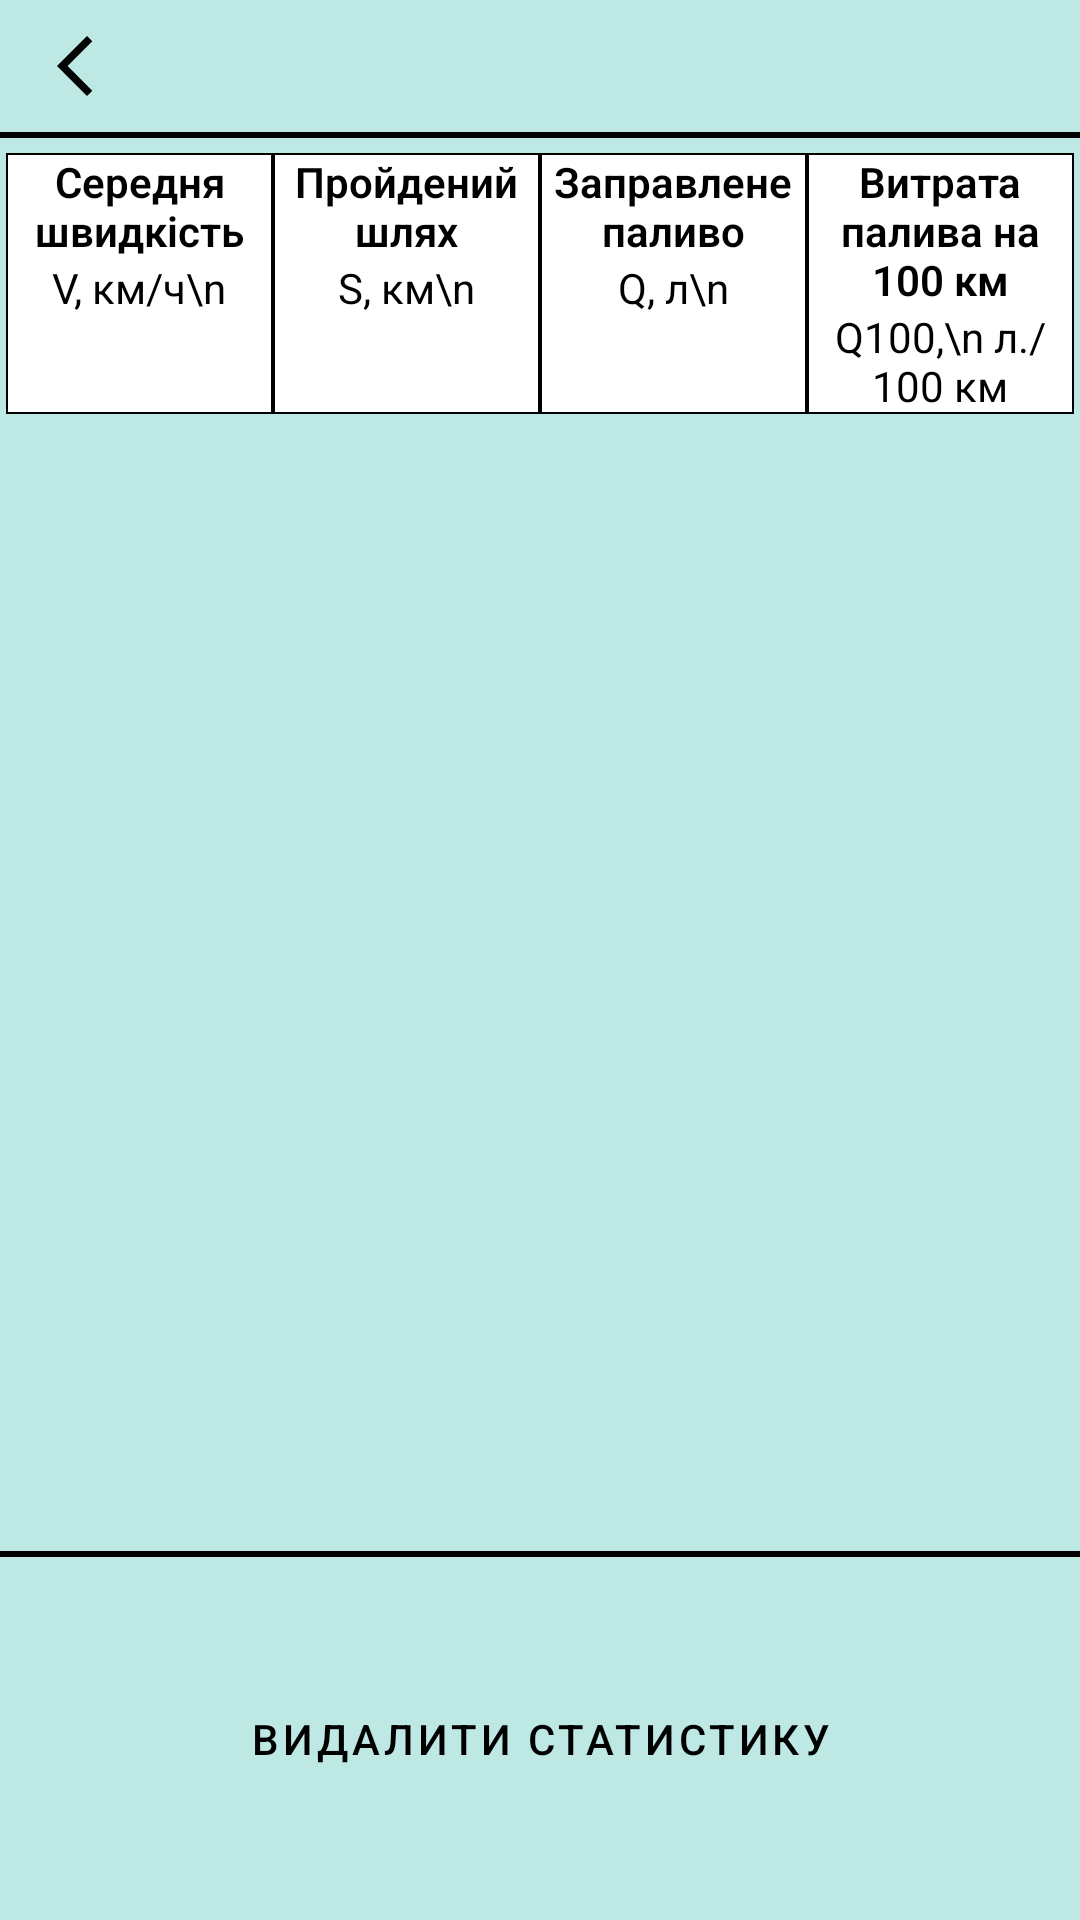

Screen size 1080 × 1920. Icon name, then its center in pixels as (x,y):
arrow back: (74,66)
